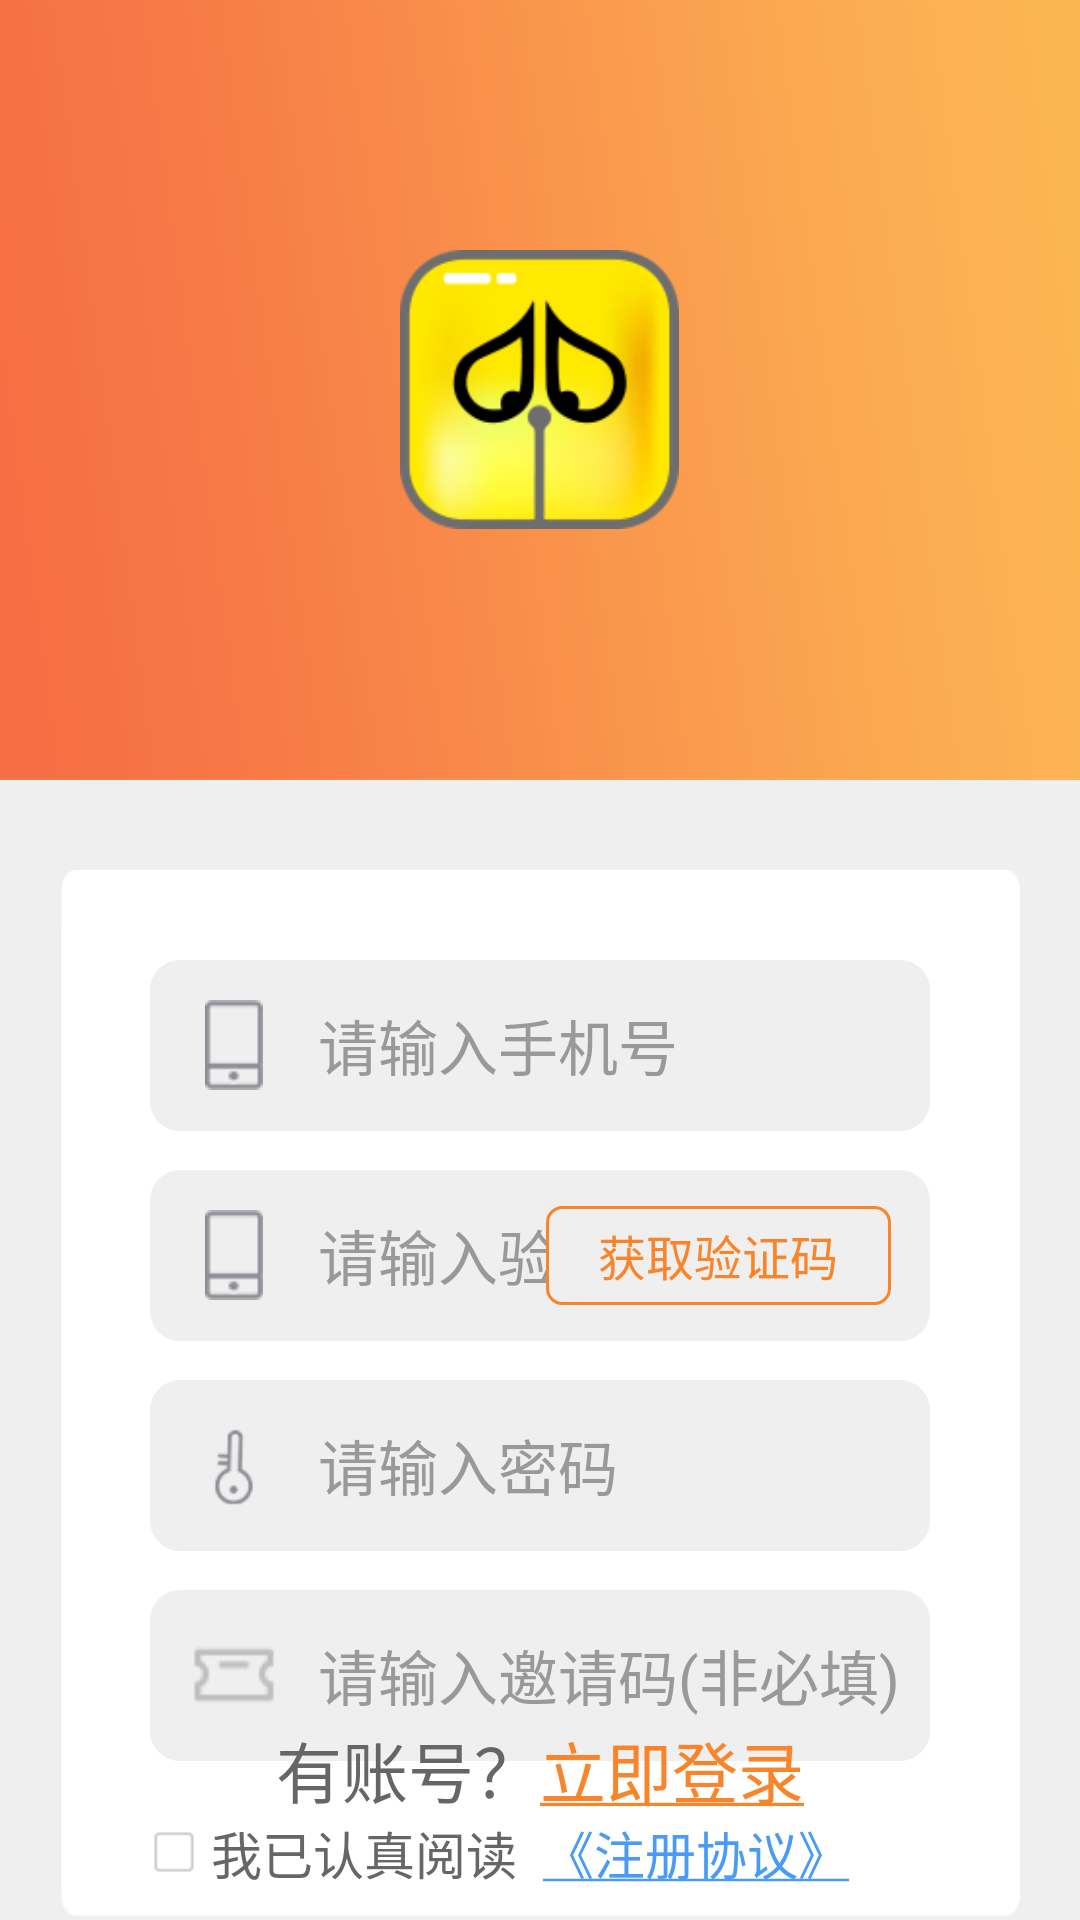

Locate icon controls on the screen. Image size 1080*1920, boxes as {"x1": x1, "y1": y1, "x2": x2, "y2": y2}.
password: {"x1": 215, "y1": 1430, "x2": 253, "y2": 1504}
phone: {"x1": 205, "y1": 1000, "x2": 263, "y2": 1090}, {"x1": 205, "y1": 1210, "x2": 263, "y2": 1300}
